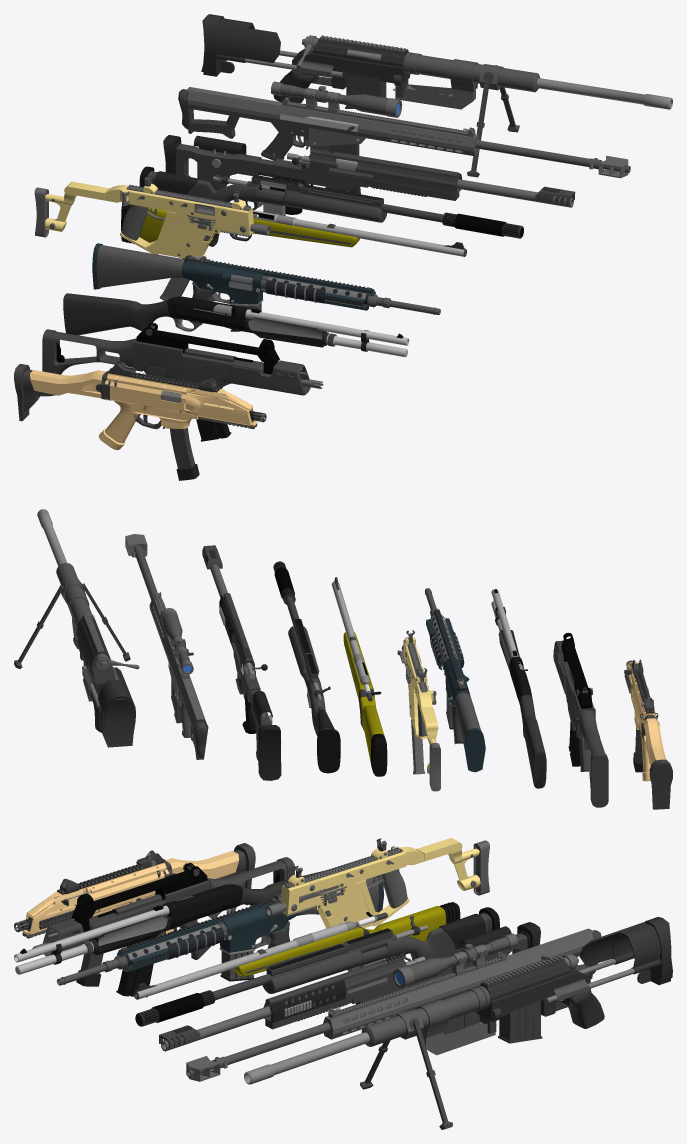
The picture shows the model from 3 angles, top to bottom: view 1: azimuth 30°, elevation 25°; view 2: azimuth 150°, elevation 25°; view 3: azimuth 270°, elevation 25°; orthographic projection. The views are drawn at different scales.
Parts seen in each view (by area): view 1: M200, Barret_M82A1, JNG_90, CZ_Scorpion_Evo, G36C, SR_25_Apply, KrissVector, Benelli_M2, M24_Apply, STEYR_SSG69; view 2: M200, JNG_90, Barret_M82A1, G36C, SR_25_Apply, M24_Apply, CZ_Scorpion_Evo, KrissVector, STEYR_SSG69, Benelli_M2; view 3: M200, Barret_M82A1, KrissVector, M24_Apply, JNG_90, SR_25_Apply, CZ_Scorpion_Evo, G36C, Benelli_M2, STEYR_SSG69.
Part boxes in pixels (left/top/right/bottom): M200: left=201, top=14, right=672, bottom=177; Barret_M82A1: left=178, top=81, right=630, bottom=178; JNG_90: left=163, top=135, right=575, bottom=214; CZ_Scorpion_Evo: left=14, top=361, right=266, bottom=480; G36C: left=42, top=323, right=323, bottom=441; SR_25_Apply: left=92, top=243, right=440, bottom=331; KrissVector: left=34, top=174, right=270, bottom=300; Benelli_M2: left=63, top=293, right=409, bottom=356; M24_Apply: left=139, top=166, right=523, bottom=238; STEYR_SSG69: left=121, top=204, right=466, bottom=256; M200: left=14, top=509, right=139, bottom=747; JNG_90: left=202, top=545, right=281, bottom=780; Barret_M82A1: left=125, top=534, right=208, bottom=759; G36C: left=553, top=632, right=608, bottom=807; SR_25_Apply: left=425, top=588, right=485, bottom=772; M24_Apply: left=273, top=561, right=340, bottom=773; CZ_Scorpion_Evo: left=624, top=659, right=672, bottom=809; KrissVector: left=397, top=630, right=440, bottom=791; STEYR_SSG69: left=331, top=577, right=387, bottom=776; Benelli_M2: left=491, top=588, right=546, bottom=788; M200: left=244, top=917, right=672, bottom=1129; Barret_M82A1: left=186, top=928, right=601, bottom=1081; KrissVector: left=265, top=838, right=489, bottom=971; M24_Apply: left=135, top=907, right=499, bottom=1026; JNG_90: left=159, top=922, right=540, bottom=1051; SR_25_Apply: left=56, top=875, right=384, bottom=985; CZ_Scorpion_Evo: left=14, top=843, right=255, bottom=986; G36C: left=32, top=857, right=294, bottom=997; Benelli_M2: left=14, top=869, right=328, bottom=974; STEYR_SSG69: left=133, top=902, right=460, bottom=999.
Size of the model in its own units: 8635 by 2503 by 6838.
